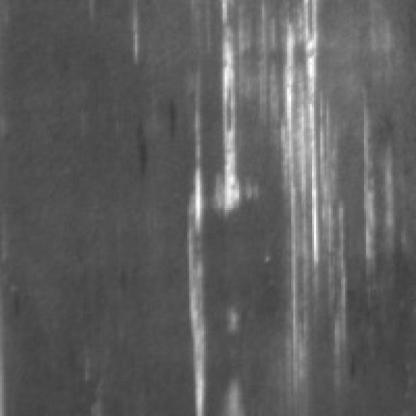scratches: (281, 0, 356, 274), (208, 0, 271, 216), (183, 160, 223, 414)
